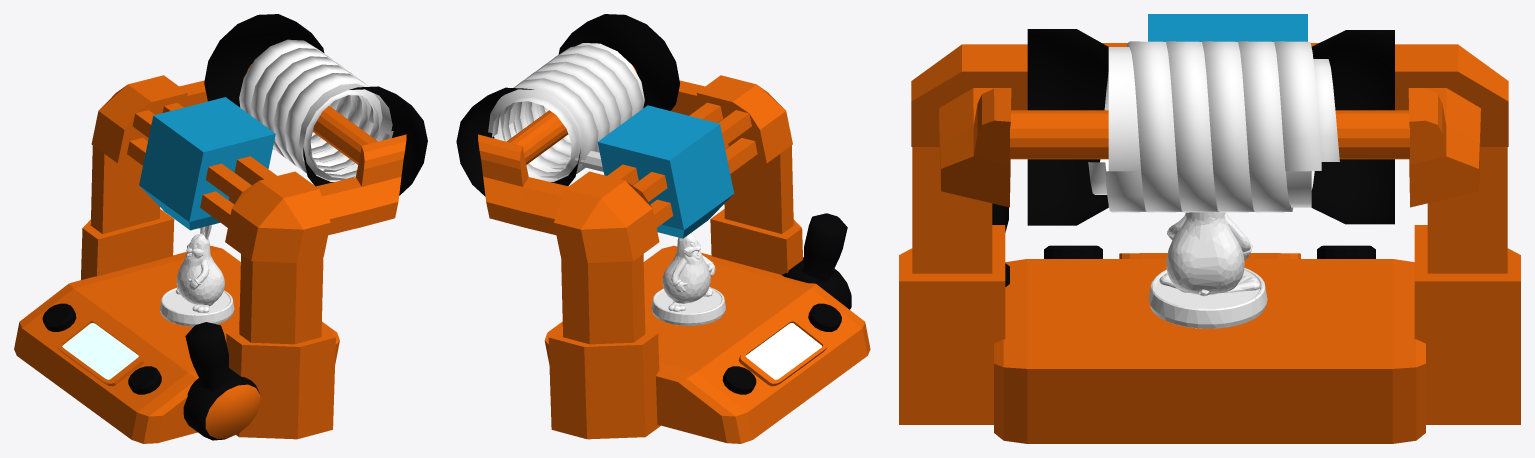
The model's file is printer.glb.
3 views of the same model, side by side, from view 1: azimuth 30°, elevation 25°; view 2: azimuth 150°, elevation 25°; view 3: azimuth 270°, elevation 25° (orthographic). The views are drawn at different scales.
Visible parts, largest first — view 1: printer, spool, nozzle, chungus, screen; view 2: printer, spool, nozzle, chungus, screen; view 3: printer, spool, chungus, nozzle.
Boxes of the visible parts, left/top/right/bottom form: printer: left=14, top=64, right=406, bottom=443; spool: left=204, top=14, right=427, bottom=195; nozzle: left=139, top=97, right=275, bottom=230; chungus: left=160, top=225, right=234, bottom=326; screen: left=62, top=323, right=138, bottom=379; printer: left=478, top=65, right=870, bottom=443; spool: left=456, top=14, right=679, bottom=196; nozzle: left=597, top=105, right=734, bottom=238; chungus: left=651, top=233, right=725, bottom=325; screen: left=745, top=323, right=822, bottom=379; printer: left=899, top=43, right=1520, bottom=443; spool: left=1027, top=29, right=1394, bottom=225; chungus: left=1148, top=212, right=1267, bottom=328; nozzle: left=1148, top=14, right=1307, bottom=41.
Bounding box in the file's own units: 0.5653 × 0.5181 × 0.6442.
